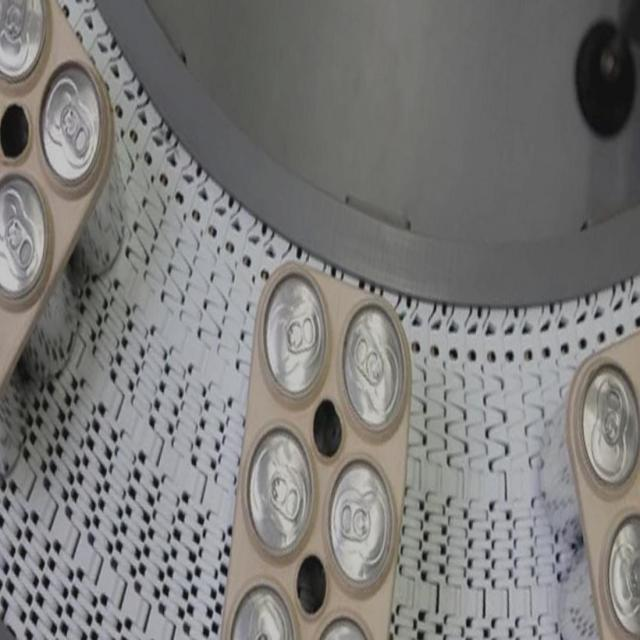bottle: (218, 259, 412, 638), (0, 0, 117, 400), (563, 326, 639, 638)
